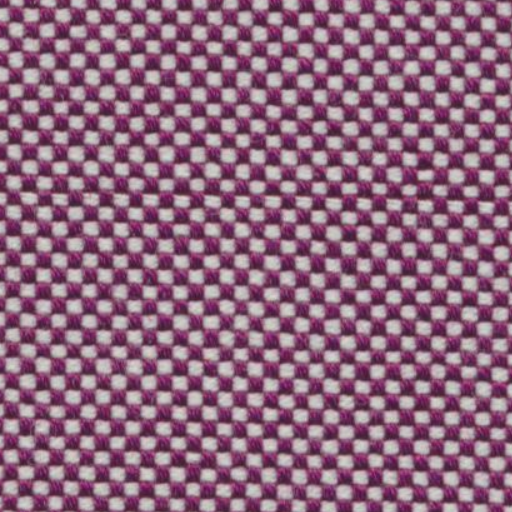TuoSha: (12, 151, 500, 232)
